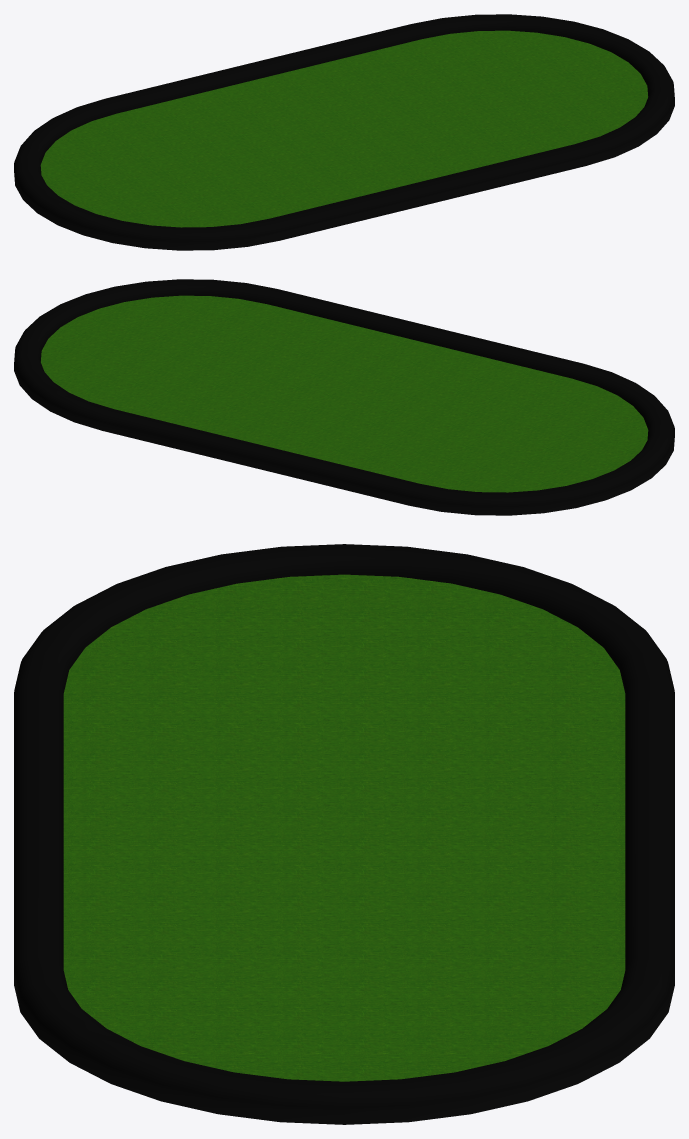
The model's file is table.glb.
The picture shows the model from 3 angles, top to bottom: view 1: azimuth 30°, elevation 25°; view 2: azimuth 150°, elevation 25°; view 3: azimuth 270°, elevation 25°; orthographic projection. The views are drawn at different scales.
Visible parts, largest first — view 1: Felt, Rail; view 2: Felt, Rail; view 3: Felt, Rail.
Part boxes in pixels (left/top/right/bottom): Felt: left=40, top=30, right=648, bottom=227; Rail: left=14, top=14, right=674, bottom=250; Felt: left=41, top=295, right=648, bottom=492; Rail: left=14, top=279, right=674, bottom=515; Felt: left=63, top=574, right=625, bottom=1081; Rail: left=14, top=544, right=674, bottom=1124.
Bounding box in the file's own units: 4 × 0.0925 × 2.
2 materials, 2 textured.
